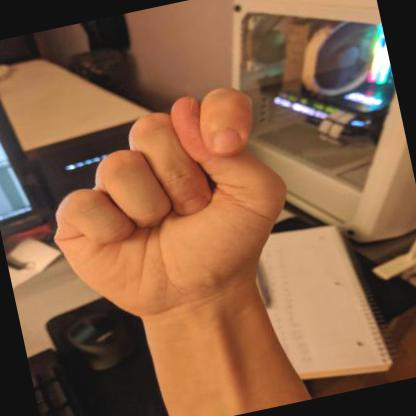T: (53, 87, 286, 323)
